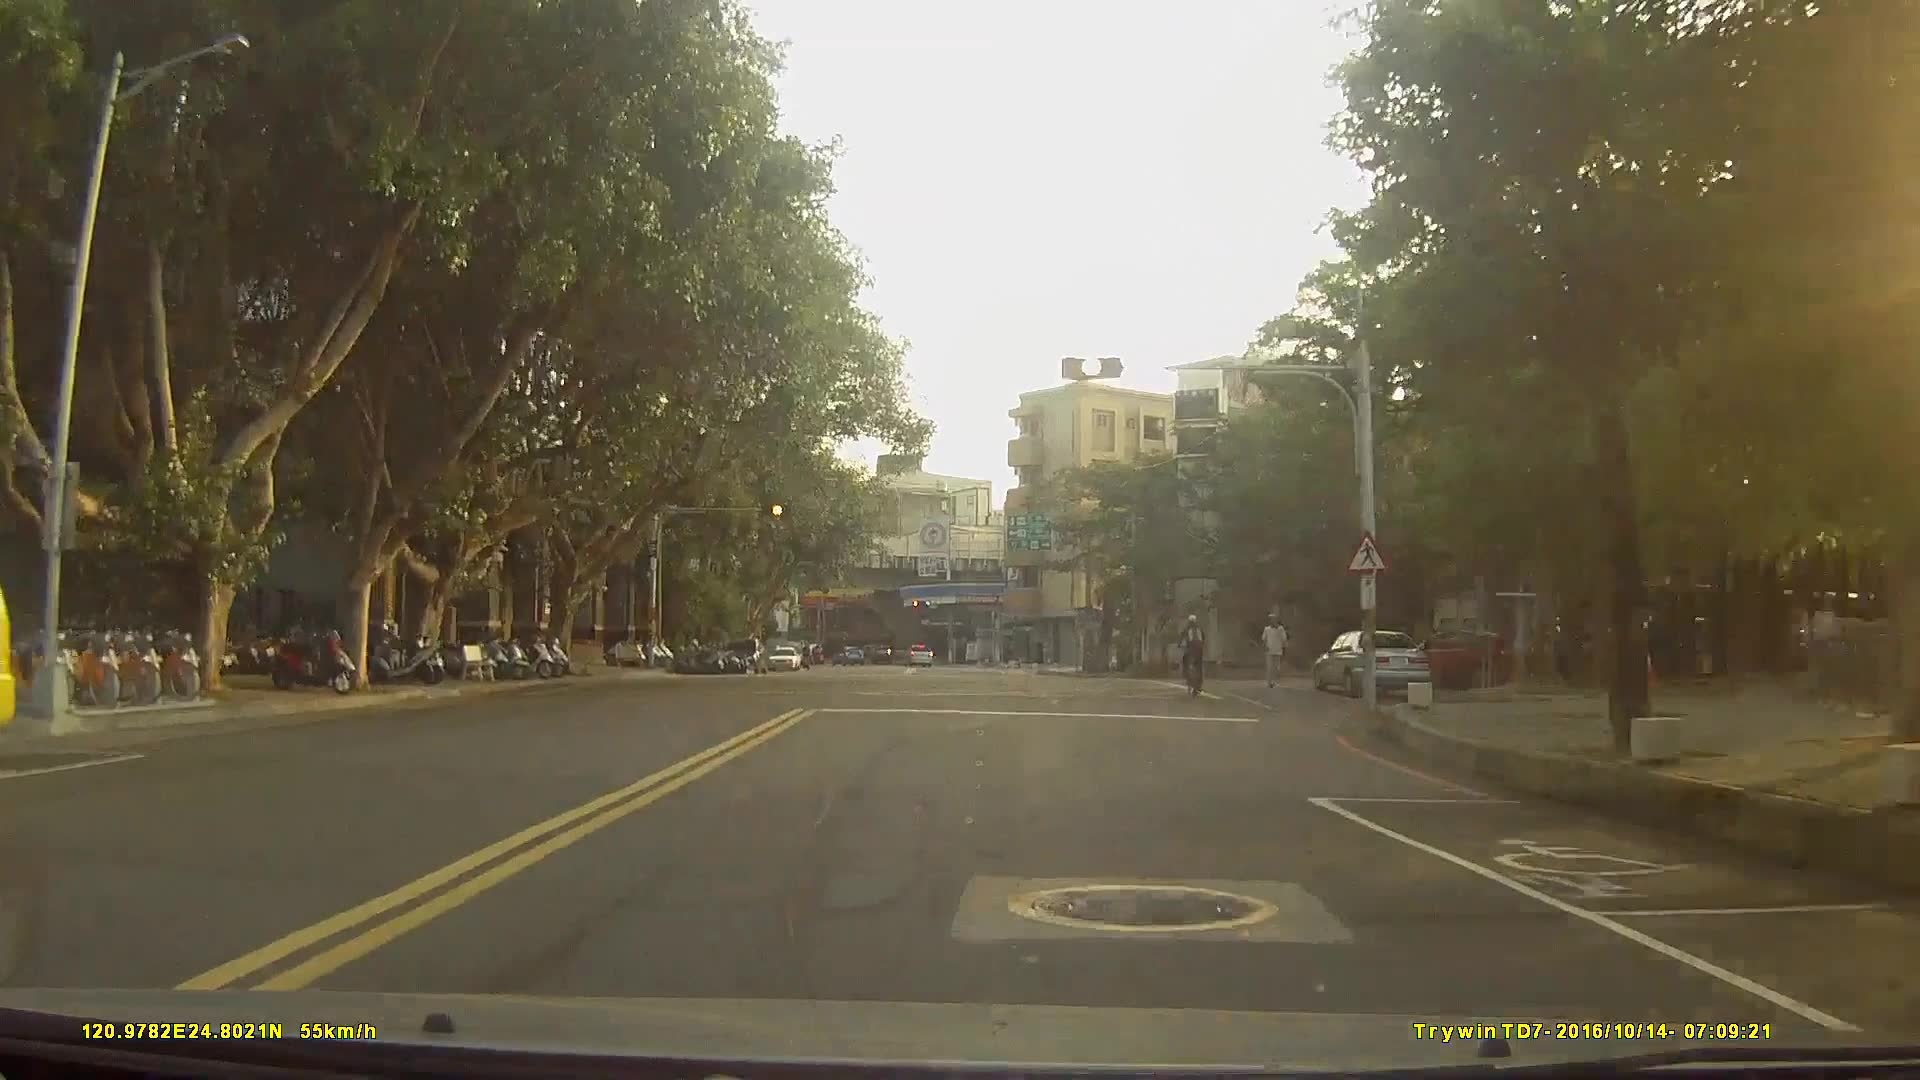pedestrian: (1259, 607, 1291, 693)
rider: (1181, 615, 1210, 693)
vehicle: (1312, 629, 1432, 699), (1395, 625, 1510, 690), (721, 634, 768, 674), (766, 643, 800, 670), (899, 641, 932, 665)
